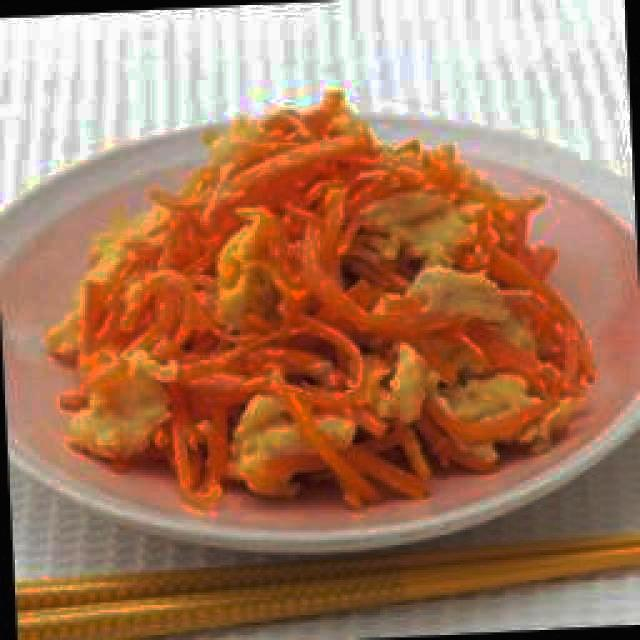carrot_eggs: (48, 88, 595, 511)
